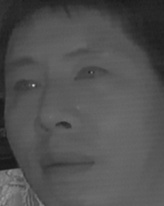eye: (74, 64, 111, 88), (11, 76, 41, 96)
mouth: (39, 146, 98, 180)
